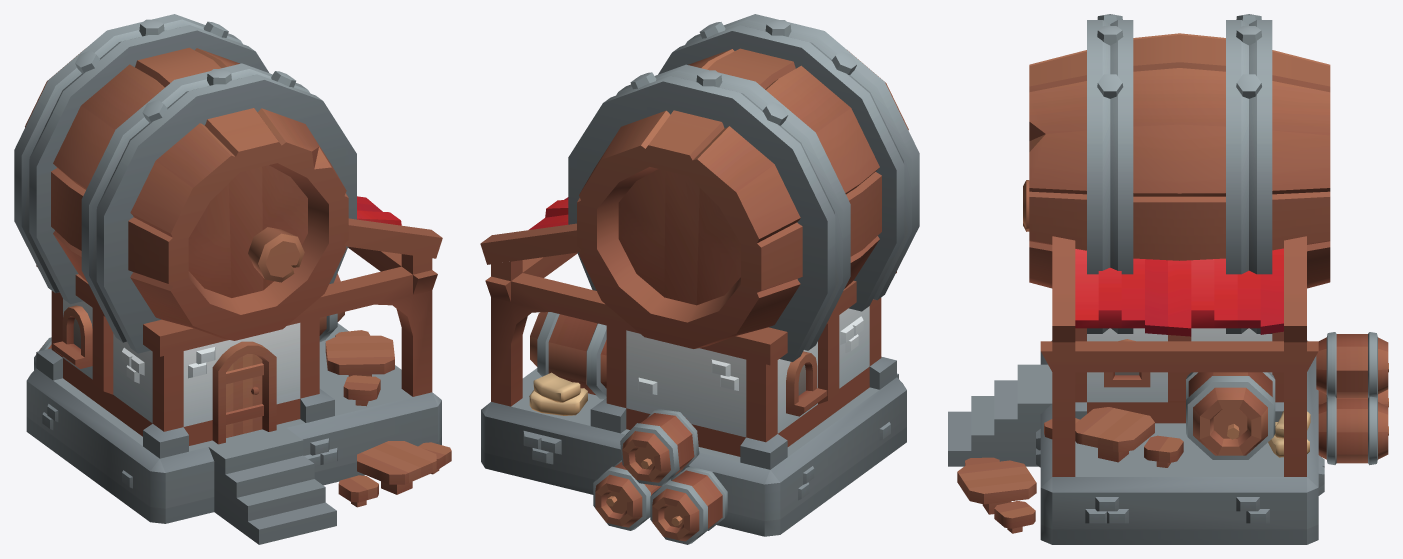
Rendered from kk_tavern_v1.glb.
3 views of the same model, side by side, from view 1: azimuth 30°, elevation 25°; view 2: azimuth 150°, elevation 25°; view 3: azimuth 270°, elevation 25° (orthographic). The views are drawn at different scales.
Parts seen in each view (by area): view 1: building_tavern_red; view 2: building_tavern_red; view 3: building_tavern_red.
Part boxes in pixels (x1,y1,x2,y2): building_tavern_red: (14, 14, 451, 544); building_tavern_red: (480, 14, 919, 544); building_tavern_red: (948, 14, 1388, 544).
Bounding box in the file's own units: 1.17 × 1.4 × 1.33.
1 material, 1 textured.
